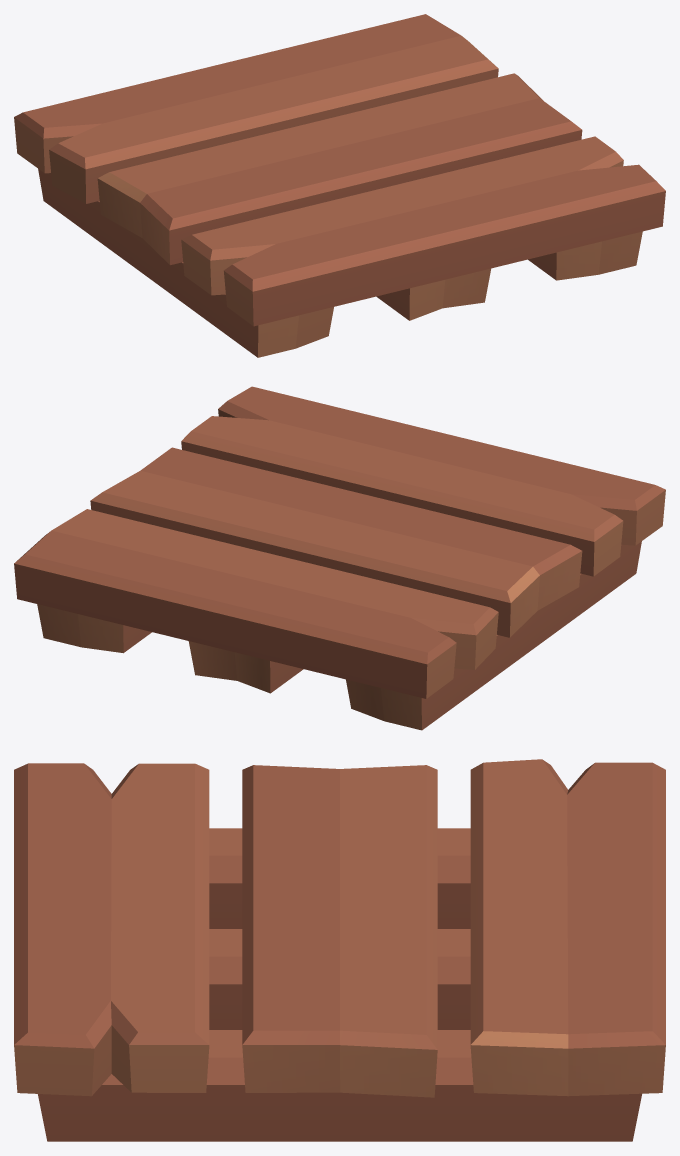
File: palette-bois.glb
The picture shows the model from 3 angles, top to bottom: view 1: azimuth 30°, elevation 25°; view 2: azimuth 150°, elevation 25°; view 3: azimuth 270°, elevation 25°; orthographic projection. The views are drawn at different scales.
Visible parts, largest first — view 1: Pallet_Wood; view 2: Pallet_Wood; view 3: Pallet_Wood.
Part boxes in pixels (x1=…): Pallet_Wood: x1=14, y1=14, x2=665, y2=357; Pallet_Wood: x1=14, y1=386, x2=665, y2=730; Pallet_Wood: x1=14, y1=759, x2=665, y2=1141.
Size of the model in its own units: 1.55 by 0.3 by 1.5.
1 material, 1 textured.
